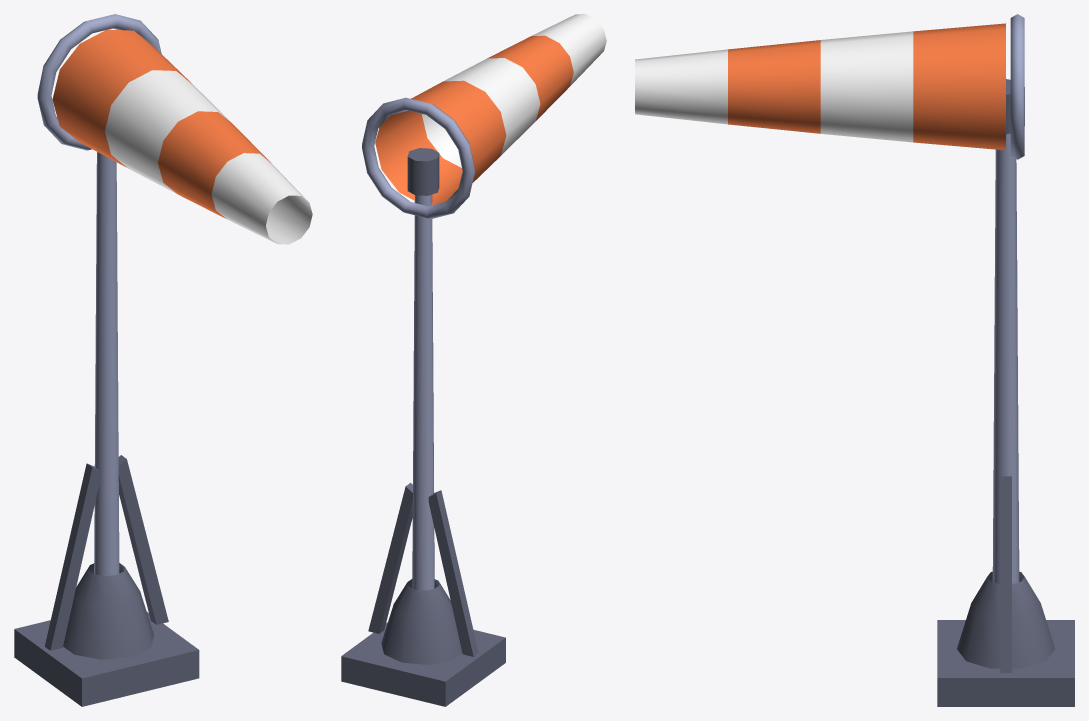
The model's file is manche-a-air.glb.
The picture shows the model from 3 angles, left to right: view 1: azimuth 30°, elevation 25°; view 2: azimuth 150°, elevation 25°; view 3: azimuth 270°, elevation 25°; orthographic projection. The views are drawn at different scales.
Visible parts, largest first — view 1: mat, semelle, manche-0, manche-1, embase, manche-3, manche-2, jambe-force-g, couronne, jambe-force-d; view 2: mat, manche-0, semelle, embase, manche-1, couronne, manche-2, jambe-force-g, manche-3, jambe-force-d, pivot; view 3: manche-0, manche-1, mat, manche-2, semelle, manche-3, embase, jambe-force-d, couronne.
Boxes of the visible parts, bbox=[...] form: mat: bbox=[94, 152, 119, 575]; semelle: bbox=[14, 612, 199, 706]; manche-0: bbox=[52, 29, 191, 167]; manche-1: bbox=[105, 70, 230, 193]; embase: bbox=[63, 563, 153, 659]; manche-3: bbox=[211, 153, 312, 244]; manche-2: bbox=[158, 111, 270, 218]; jambe-force-g: bbox=[44, 463, 100, 650]; couronne: bbox=[37, 14, 161, 150]; jambe-force-d: bbox=[118, 455, 168, 624]; mat: bbox=[412, 194, 434, 590]; manche-0: bbox=[375, 80, 506, 204]; semelle: bbox=[341, 622, 505, 706]; embase: bbox=[381, 579, 462, 664]; manche-1: bbox=[422, 58, 540, 167]; couronne: bbox=[362, 97, 474, 218]; manche-2: bbox=[487, 35, 573, 120]; jambe-force-g: bbox=[428, 490, 478, 656]; manche-3: bbox=[531, 14, 606, 85]; jambe-force-d: bbox=[368, 482, 412, 633]; pivot: bbox=[407, 148, 439, 195]; manche-0: bbox=[913, 23, 1005, 150]; manche-1: bbox=[820, 31, 913, 142]; mat: bbox=[992, 133, 1019, 584]; manche-2: bbox=[728, 40, 820, 133]; semelle: bbox=[937, 620, 1074, 706]; manche-3: bbox=[635, 49, 727, 124]; embase: bbox=[957, 571, 1054, 668]; jambe-force-d: bbox=[1000, 476, 1011, 672]; couronne: bbox=[1010, 14, 1024, 159].
Bounding box in the file's own units: 0.0515 × 0.2501 × 0.1518.
